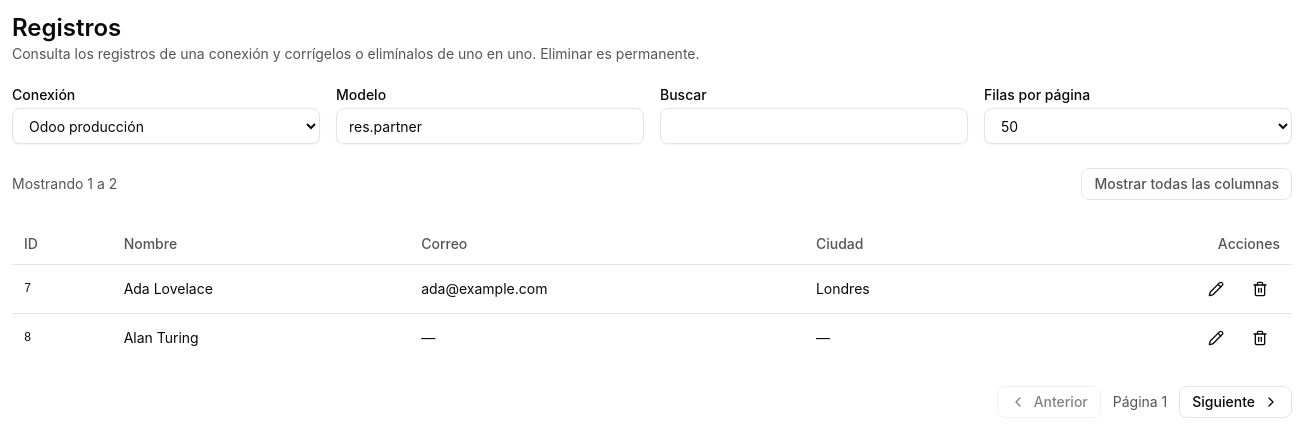
Scenario: RecordsPage list › paginates with limit and offset
The width and height of the screenshot is (1304, 435).
Check: the text "Ada Lovelace" is shown, box 112,264 -> 409,313
Click the button "Siguiente" at (1236, 402), box 1179,386 -> 1292,418
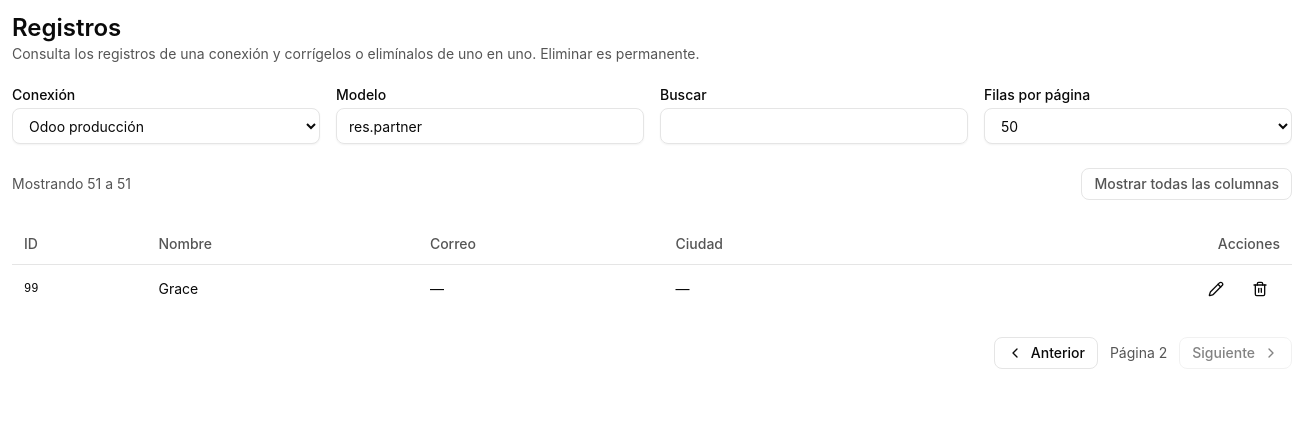
Check: the text "Grace" is shown, box 146,264 -> 418,312
Check: the button "Anterior" is enabled, box 994,336 -> 1098,368
Check: the button "Siguiente" is disabled, box 1179,336 -> 1292,368
